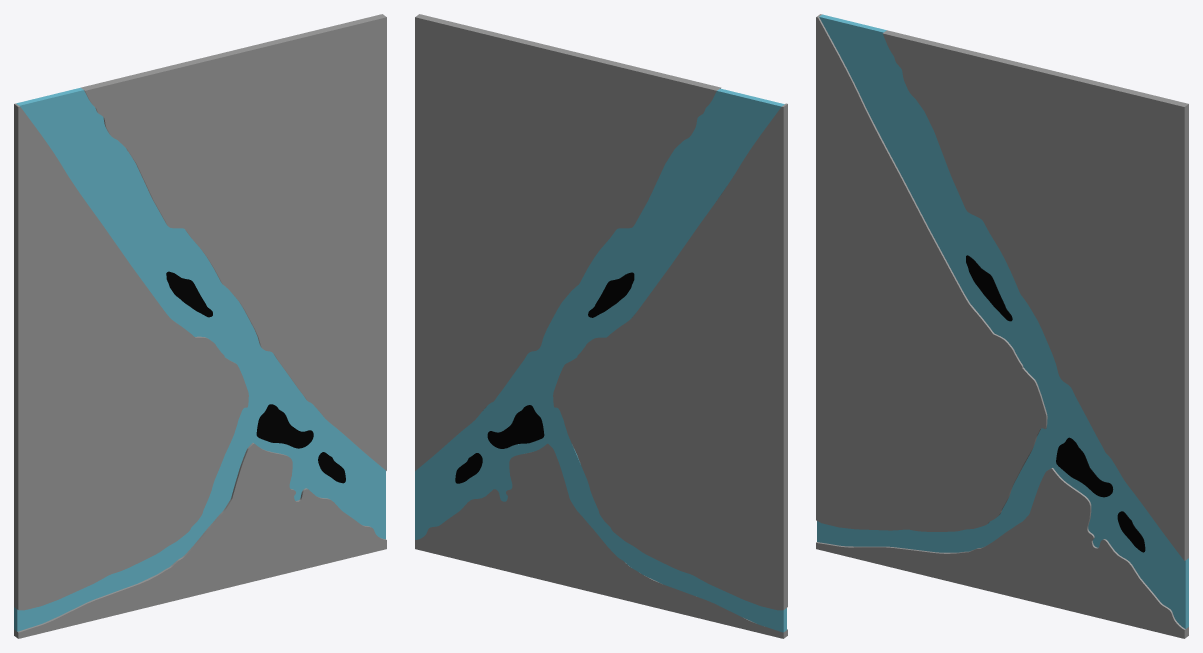
The model's file is River.fbx.
The picture shows the model from 3 angles, left to right: view 1: azimuth 30°, elevation 25°; view 2: azimuth 150°, elevation 25°; view 3: azimuth 330°, elevation 25°; orthographic projection.
Parts seen in each view (by area): view 1: land03, land01, water, land02, island02, island01; view 2: land03, land01, water, land02, island02, island01; view 3: land03, land01, water, land02, island02, island01, island03.
Part boxes in pixels (left/top/right/bottom): land03: left=81, top=14, right=386, bottom=470; land01: left=14, top=103, right=248, bottom=610; water: left=14, top=87, right=385, bottom=631; land02: left=14, top=443, right=386, bottom=638; island02: left=256, top=404, right=313, bottom=448; island01: left=166, top=271, right=212, bottom=317; land03: left=415, top=14, right=720, bottom=470; land01: left=553, top=103, right=787, bottom=610; water: left=415, top=88, right=786, bottom=632; land02: left=415, top=443, right=787, bottom=638; island02: left=487, top=405, right=544, bottom=448; island01: left=588, top=272, right=634, bottom=317; land03: left=882, top=30, right=1188, bottom=560; land01: left=816, top=14, right=1047, bottom=531; water: left=817, top=14, right=1188, bottom=628; land02: left=816, top=468, right=1188, bottom=638; island02: left=1056, top=437, right=1113, bottom=497; island01: left=966, top=255, right=1012, bottom=321; island03: left=1117, top=511, right=1145, bottom=552.
Size of the model in its own units: 580 by 800 by 12.
